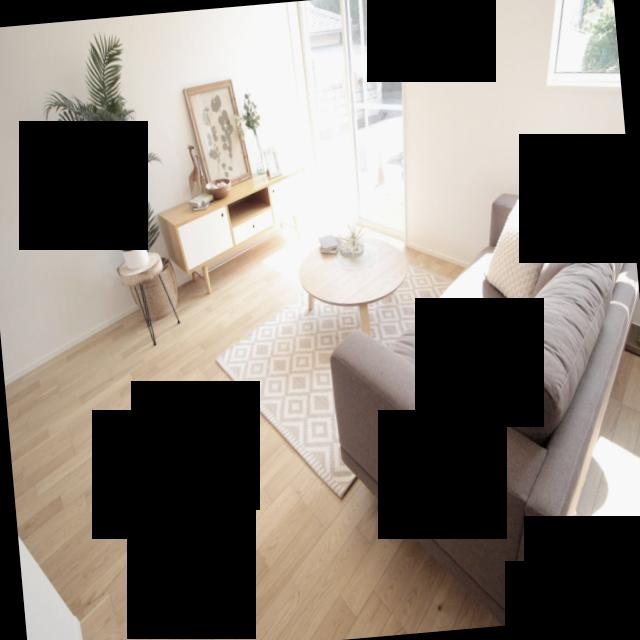natural desk: (296, 232, 414, 338)
natural shelf: (153, 168, 309, 262)
natural sofa: (315, 175, 640, 638)
